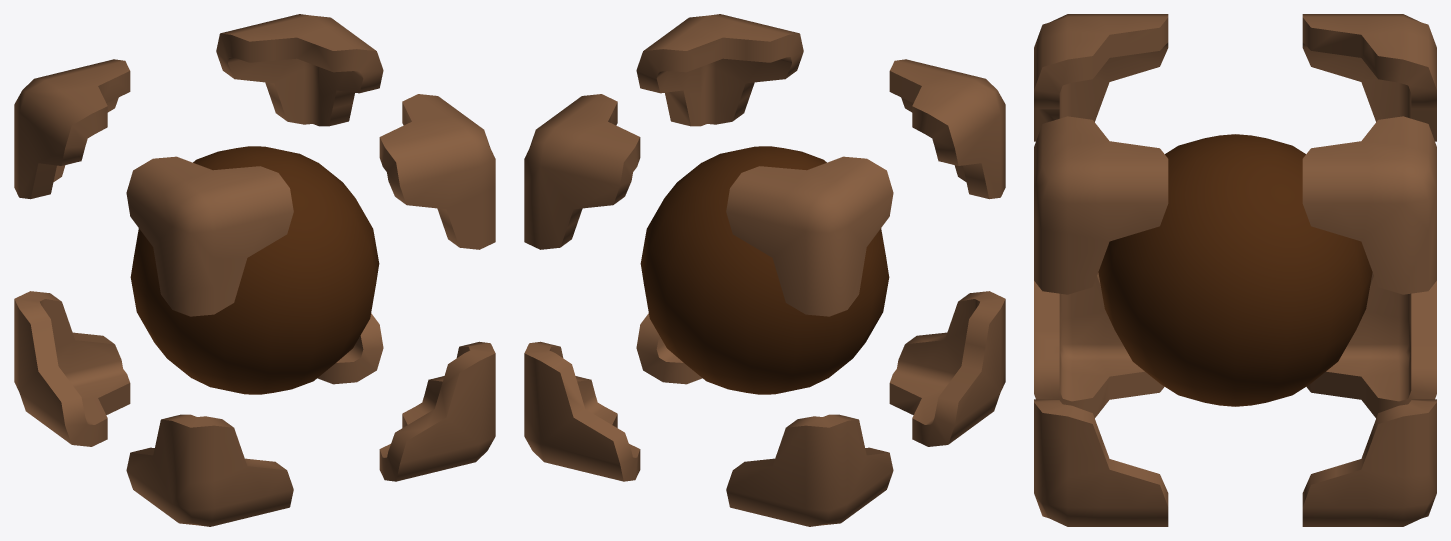
The model's file is quaternius-ultimate-space-pickup-sphere.glb.
The picture shows the model from 3 angles, left to right: view 1: azimuth 30°, elevation 25°; view 2: azimuth 150°, elevation 25°; view 3: azimuth 270°, elevation 25°; orthographic projection. The views are drawn at different scales.
Parts seen in each view (by area): view 1: Pickup_Sphere; view 2: Pickup_Sphere; view 3: Pickup_Sphere.
Boxes of the visible parts, bbox=[...] form: Pickup_Sphere: bbox=[14, 14, 495, 526]; Pickup_Sphere: bbox=[524, 14, 1005, 526]; Pickup_Sphere: bbox=[1034, 14, 1436, 526].
Size of the model in its own units: 0.8856 by 0.8856 by 0.8856.
Materials: 1 (1 with a texture image).
